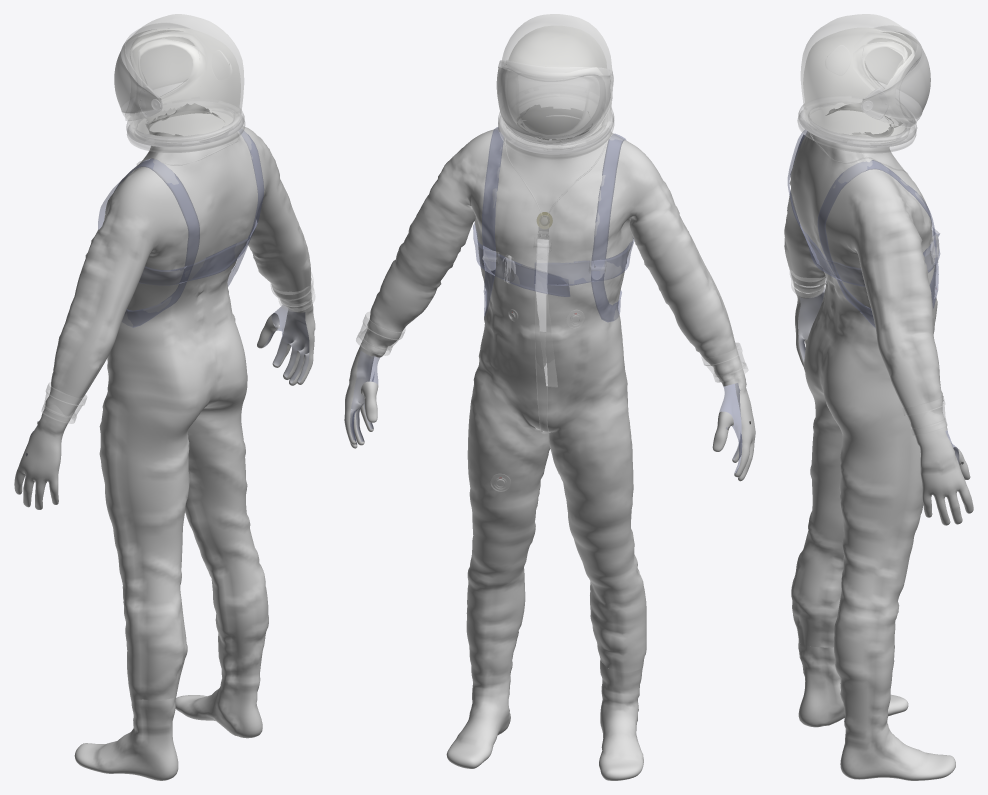
Rendered from mercury-spacesuit.glb.
3 renders of one model, left to right at view 1: azimuth 30°, elevation 25°; view 2: azimuth 150°, elevation 25°; view 3: azimuth 270°, elevation 25°, orthographic.
Visible parts, largest first — view 1: Mercury Spacesuit; view 2: Mercury Spacesuit; view 3: Mercury Spacesuit.
Boxes of the visible parts, x1,y1,x2,y2 form: Mercury Spacesuit: (14,14,315,780); Mercury Spacesuit: (344,14,755,780); Mercury Spacesuit: (784,14,973,780).
Bounding box in the file's own units: 0.9948 × 2 × 0.4718.
